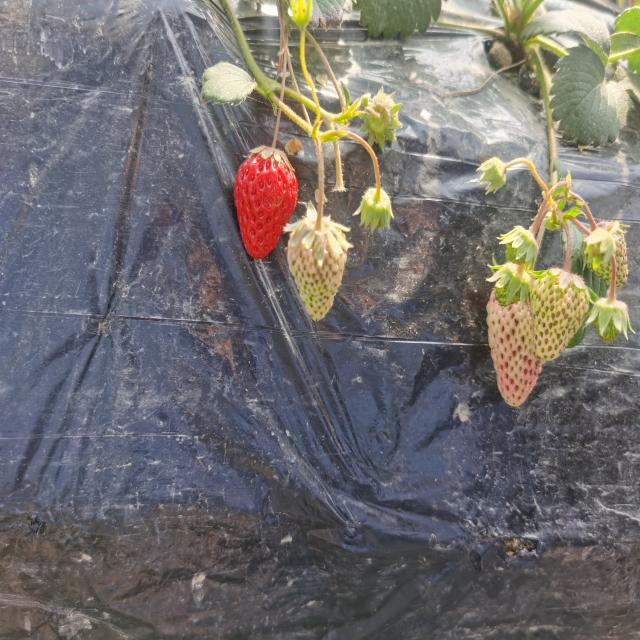stem: (271, 118, 280, 150)
strawberry: (234, 146, 298, 258)
